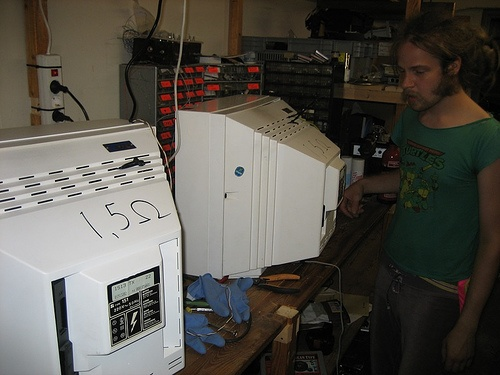head: (395, 22, 465, 113)
person: (334, 12, 500, 373)
